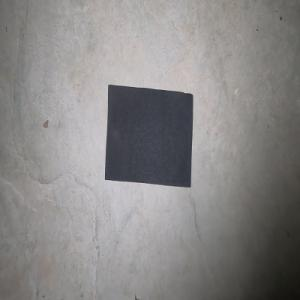PaintChip: (104, 84, 193, 187)
